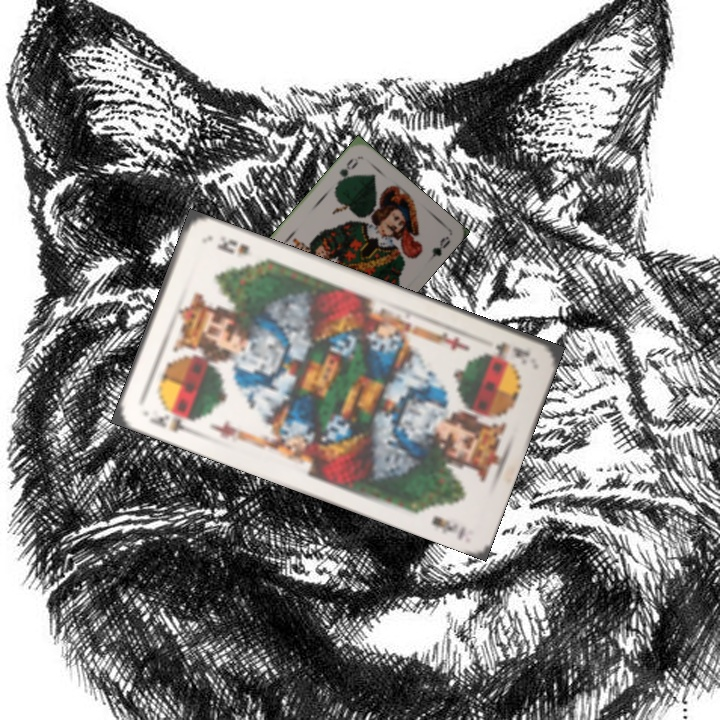GO: (332, 153, 361, 189)
SK: (145, 404, 197, 435), (480, 338, 532, 361)
